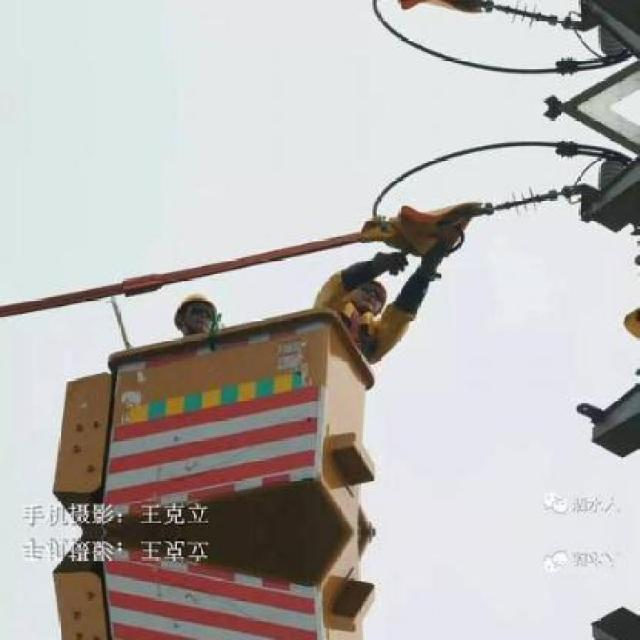helmet: (170, 289, 221, 348), (340, 275, 389, 313)
